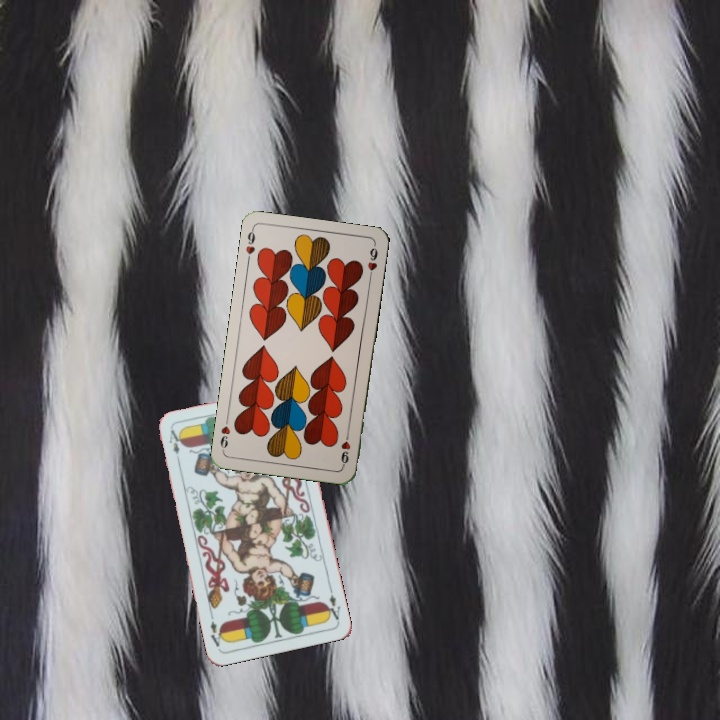EA: (322, 584, 343, 623), (165, 426, 183, 456)
H9: (241, 225, 258, 265), (337, 428, 353, 469)
